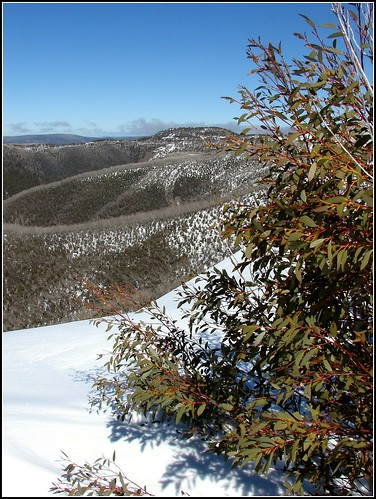sky: (1, 1, 293, 115)
tree: (168, 38, 376, 443)
